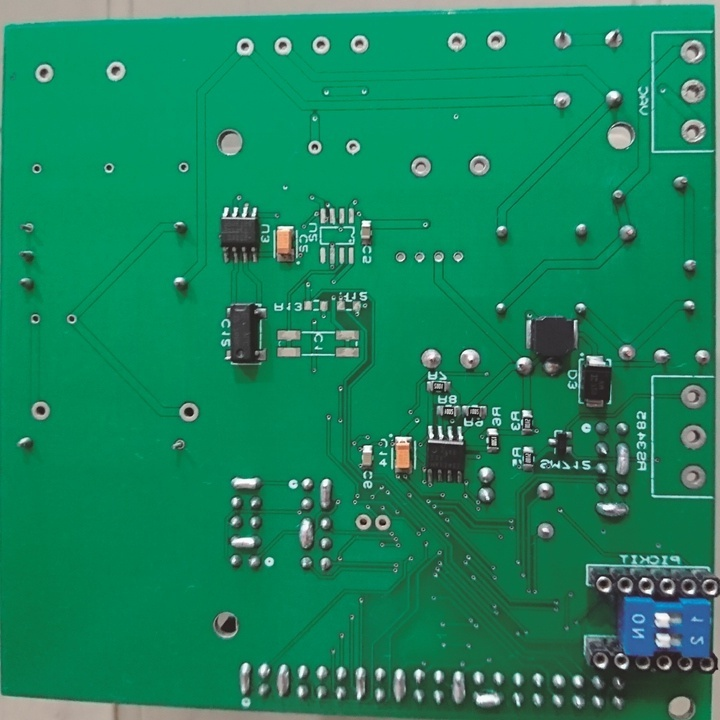F: (677, 383, 707, 413), (677, 422, 707, 452), (679, 461, 707, 492), (679, 38, 707, 68), (679, 116, 707, 146), (679, 76, 707, 103), (408, 152, 433, 178), (552, 26, 574, 55), (418, 346, 442, 372), (457, 346, 481, 371), (467, 152, 490, 178), (32, 63, 58, 86), (29, 399, 53, 423), (178, 400, 200, 425), (550, 89, 573, 112), (348, 33, 371, 56), (233, 35, 256, 58), (104, 60, 127, 83), (486, 28, 508, 52), (446, 30, 468, 52), (604, 27, 624, 51), (372, 511, 392, 535), (272, 35, 295, 55), (693, 345, 713, 368), (652, 344, 672, 366), (537, 521, 556, 543), (312, 35, 331, 56), (343, 138, 363, 157), (353, 513, 373, 532), (617, 344, 636, 363), (19, 218, 36, 236), (169, 438, 187, 455), (430, 249, 447, 266), (307, 138, 324, 154), (449, 249, 465, 266), (393, 249, 408, 265), (411, 248, 424, 266), (65, 312, 78, 329), (29, 163, 44, 177), (27, 312, 41, 327), (176, 160, 190, 174), (103, 161, 116, 175)
P: (592, 499, 631, 521), (390, 664, 408, 705), (472, 689, 506, 710), (450, 667, 467, 708), (613, 440, 630, 480), (227, 534, 264, 552), (353, 664, 369, 705), (275, 662, 291, 702), (229, 476, 263, 494), (237, 660, 253, 696), (319, 475, 333, 512), (298, 516, 313, 550)
